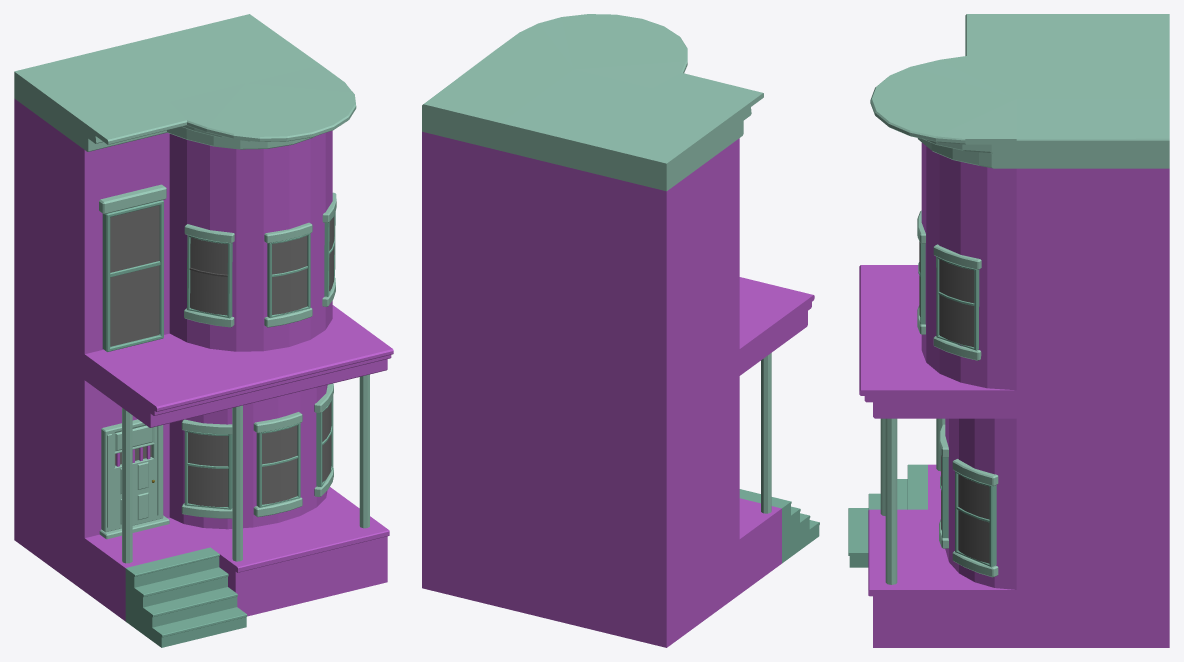
Rendered from PurpleTallHouse.fbx.
3 renders of one model, left to right at view 1: azimuth 30°, elevation 25°; view 2: azimuth 150°, elevation 25°; view 3: azimuth 270°, elevation 25°, orthographic. The views are drawn at different scales.
Visible parts, largest first — view 1: polySurface27; view 2: polySurface27; view 3: polySurface27.
Part boxes in pixels (x1,y1,x2,y2): polySurface27: (14, 14, 393, 647); polySurface27: (422, 14, 819, 647); polySurface27: (848, 14, 1169, 647).
Bounding box in the file's own units: 5.03 × 9.47 × 5.42.
